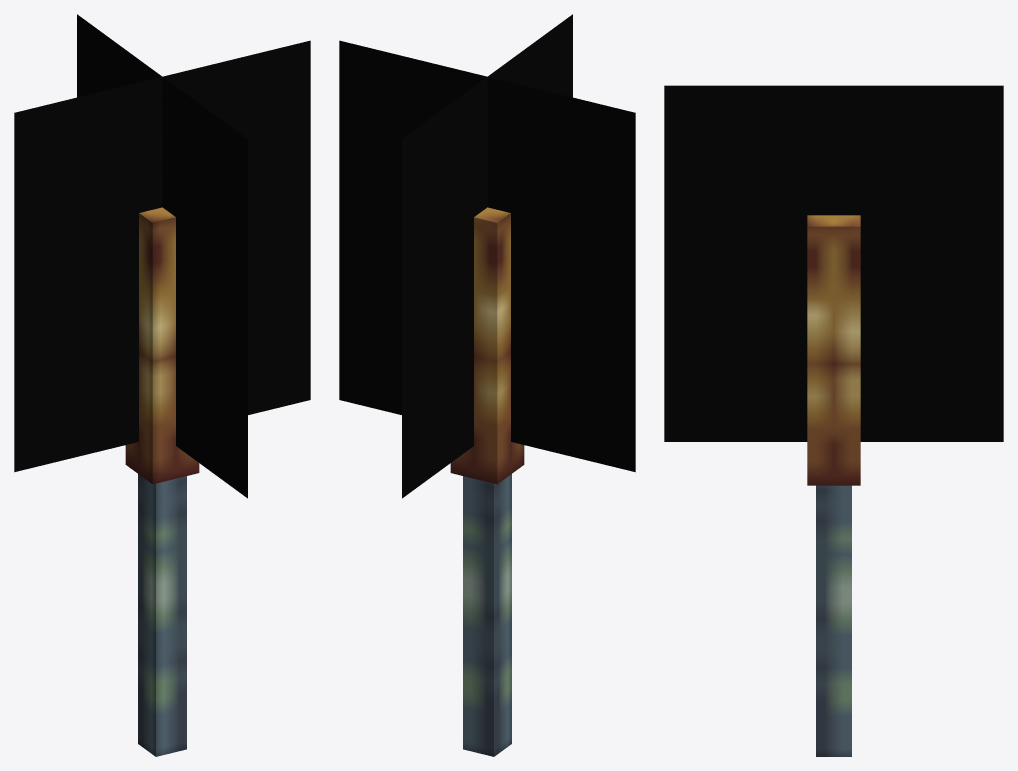
File: the_annihilator.obj
3 renders of one model, left to right at view 1: azimuth 30°, elevation 25°; view 2: azimuth 150°, elevation 25°; view 3: azimuth 270°, elevation 25°, orthographic.
Visible parts, largest first — view 1: root; view 2: root; view 3: root.
Boxes of the visible parts, x1,y1,x2,y2 form: root: (14,14,310,756); root: (339,14,635,756); root: (664,85,1003,756).
Size of the model in its own units: 19 by 41 by 19.
Materials: 1 (1 with a texture image).
